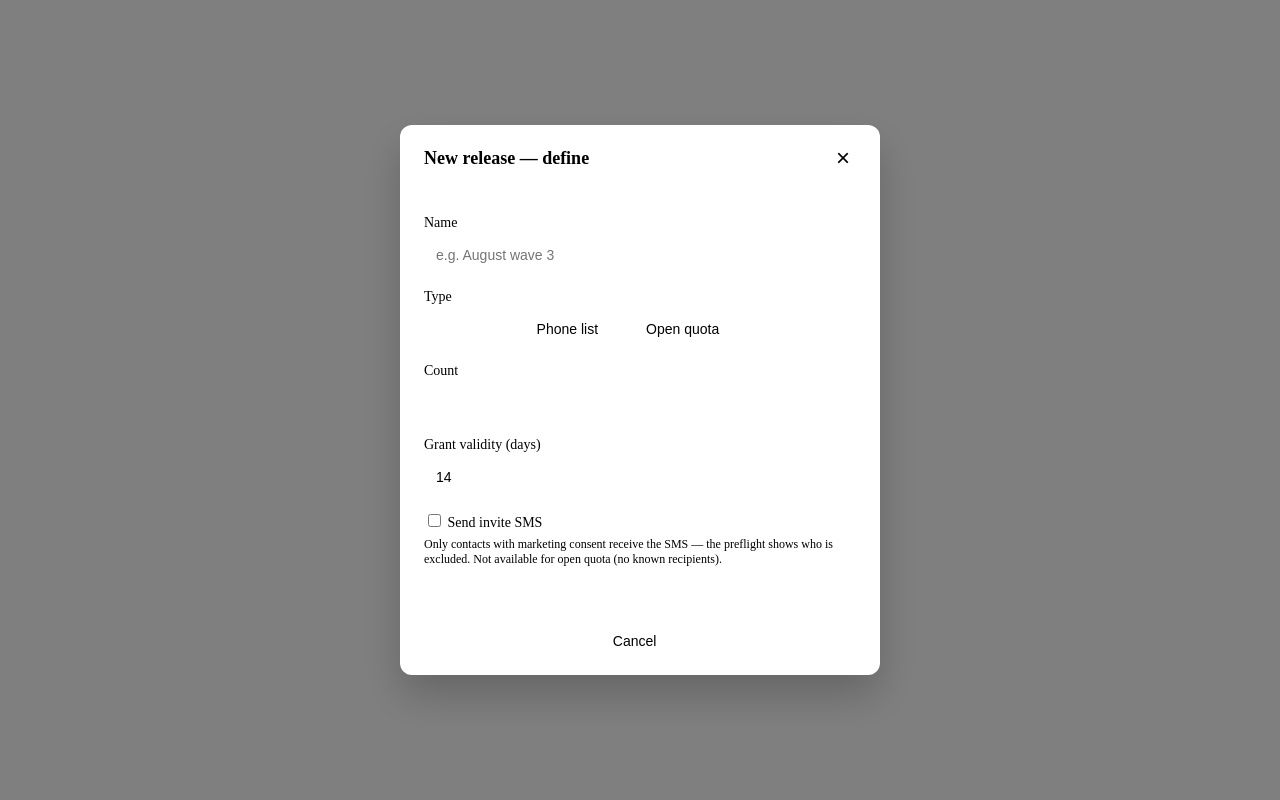
Test: NewReleaseModal › step 1 renders three type cards; SMS checkbox disabled for open quota
The width and height of the screenshot is (1280, 800).
Check: the radio button "Phone list" is shown, box [517,311,618,347]
Step 1. Click the radio button "Open quota" → [683, 329], box [626,311,739,347]
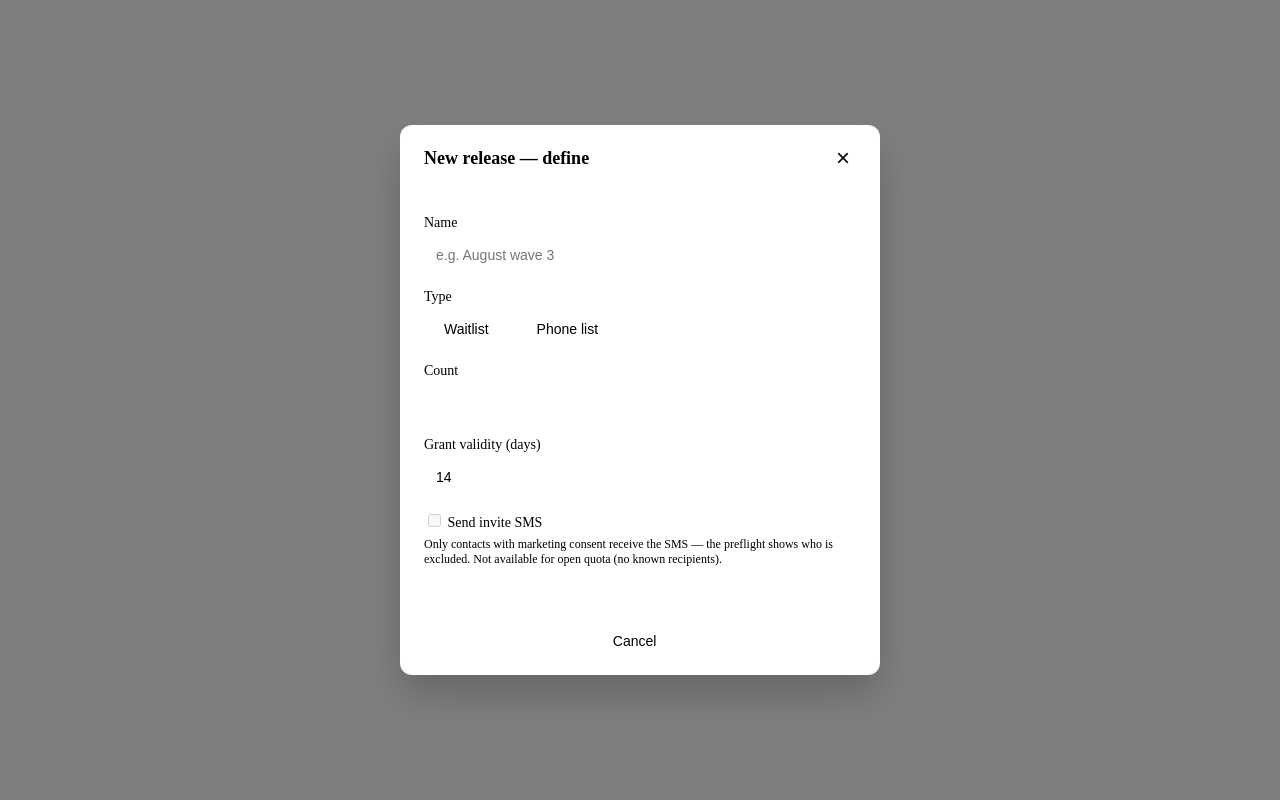
Check: the checkbox labelled "Send invite SMS" is disabled, box [428,514,441,527]
